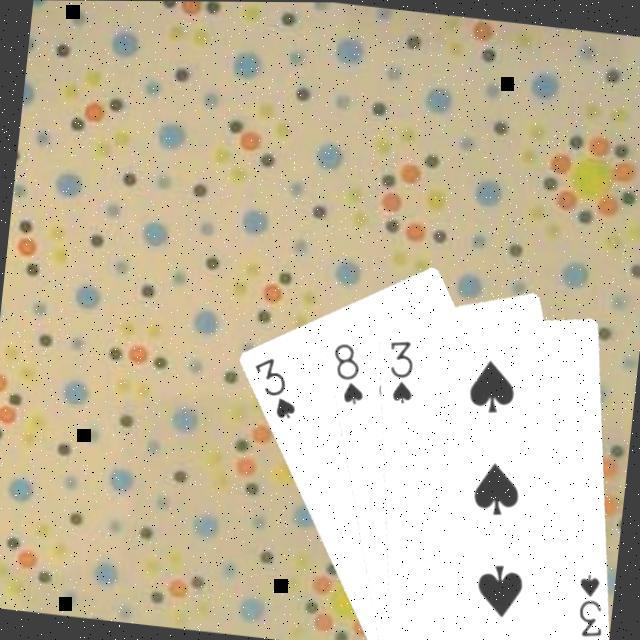3S: (242, 353, 302, 424), (377, 335, 418, 408), (567, 570, 608, 640)
8S: (322, 339, 368, 409)
